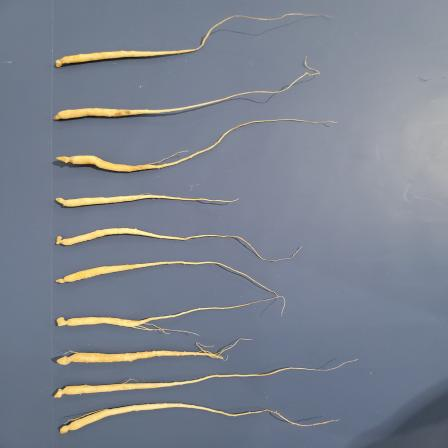Ginseng: (50, 13, 331, 70), (52, 123, 332, 174), (49, 72, 322, 124), (55, 400, 344, 438), (51, 367, 350, 401), (51, 260, 283, 302), (53, 298, 284, 338), (52, 226, 305, 262), (52, 338, 252, 366), (53, 192, 242, 210)
head: (54, 350, 80, 367), (57, 420, 76, 436), (52, 384, 70, 399), (54, 194, 71, 209), (54, 55, 72, 69), (55, 154, 76, 166), (55, 316, 73, 328), (55, 234, 70, 248), (52, 109, 66, 122), (55, 274, 70, 286)
